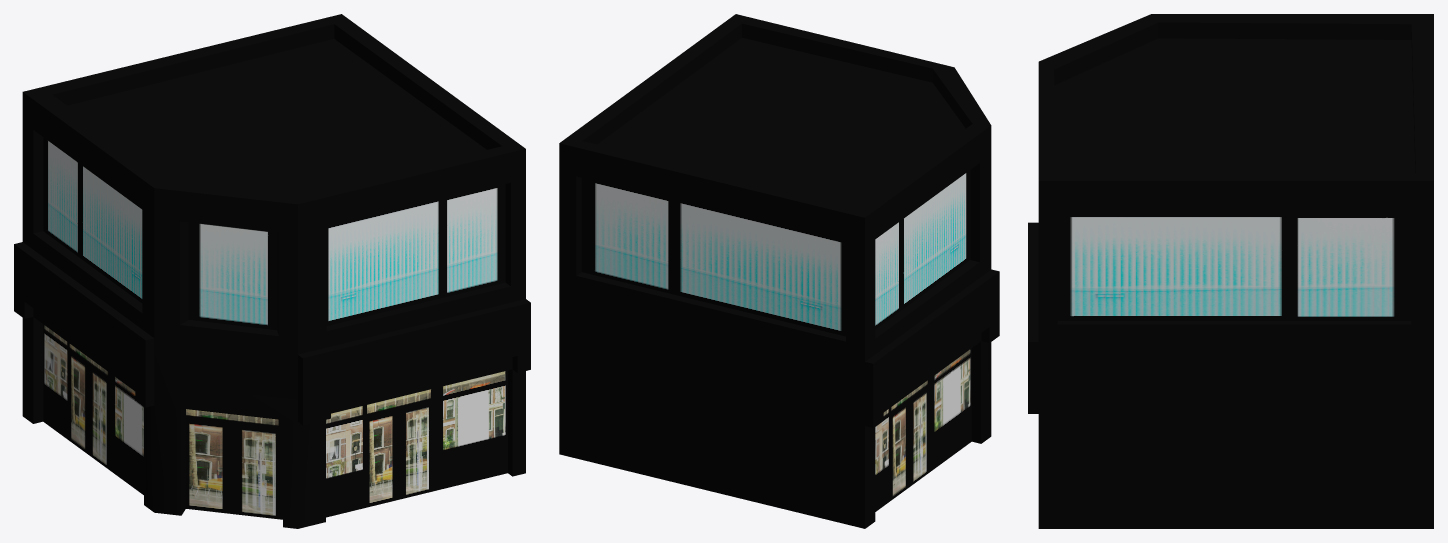
File: shop1.FBX
The picture shows the model from 3 angles, left to right: view 1: azimuth 30°, elevation 25°; view 2: azimuth 150°, elevation 25°; view 3: azimuth 270°, elevation 25°; orthographic projection. The views are drawn at different scales.
Visible parts, largest first — view 1: Box001; view 2: Box001; view 3: Box001.
Boxes of the visible parts, x1,y1,x2,y2 form: Box001: (14,14,530,528); Box001: (559,14,999,528); Box001: (1028,14,1433,528).
Size of the model in its own units: 77.04 by 72.9 by 77.04.
